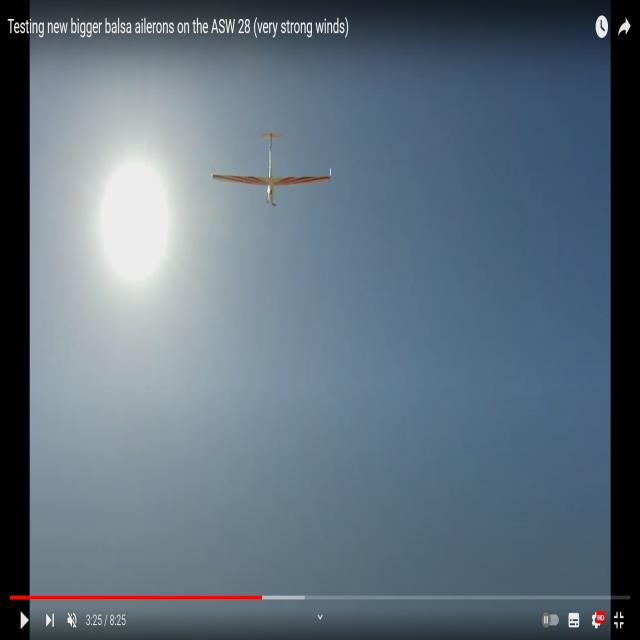iha: (244, 166, 299, 173)
